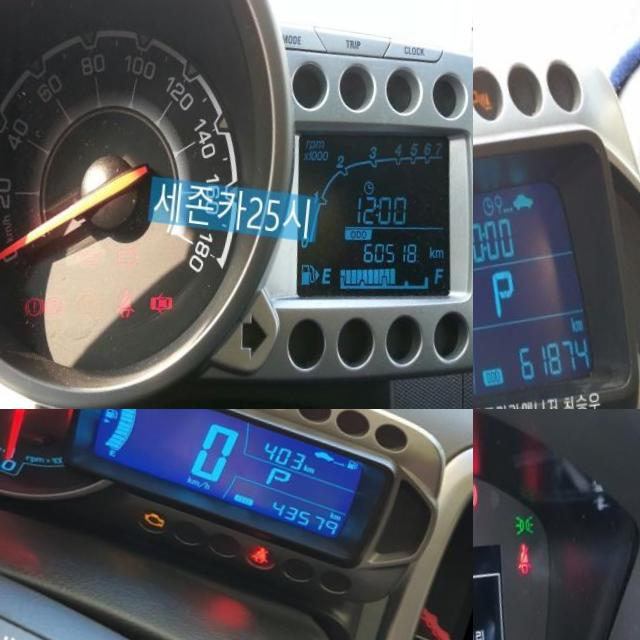Doors: (158, 283, 182, 308)
SideLamp: (515, 498, 539, 525)
